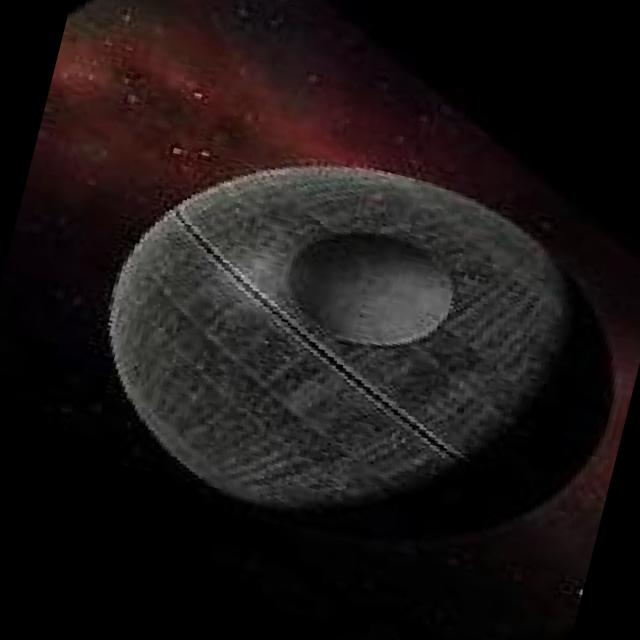Death Star: (65, 106, 612, 577)
